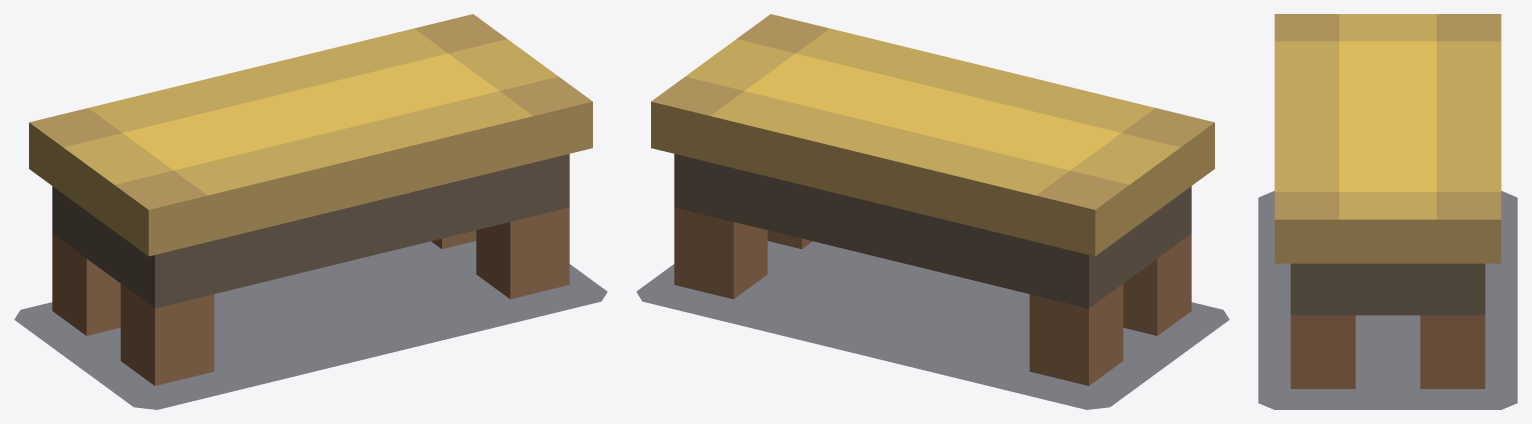
File: modelo.obj
The picture shows the model from 3 angles, left to right: view 1: azimuth 30°, elevation 25°; view 2: azimuth 150°, elevation 25°; view 3: azimuth 270°, elevation 25°; orthographic projection. The views are drawn at different scales.
Visible parts, largest first — view 1: polygon1, polygon0; view 2: polygon1, polygon0; view 3: polygon1, polygon0.
Part boxes in pixels (<box>): polygon1: <box>29,14,592,385</box>; polygon0: <box>14,241,607,409</box>; polygon1: <box>651,14,1214,385</box>; polygon0: <box>636,241,1229,409</box>; polygon1: <box>1274,14,1501,388</box>; polygon0: <box>1258,191,1517,409</box>.
Bounding box in the file's own units: 32 × 12.5 × 16.
Materials: 2 (2 with a texture image).
